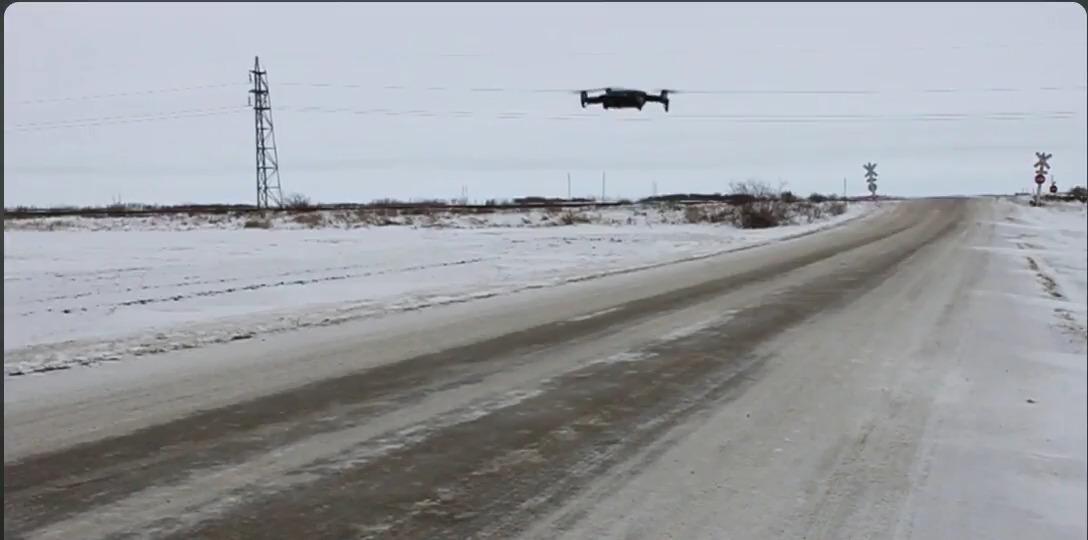dr: (531, 52, 719, 147)
